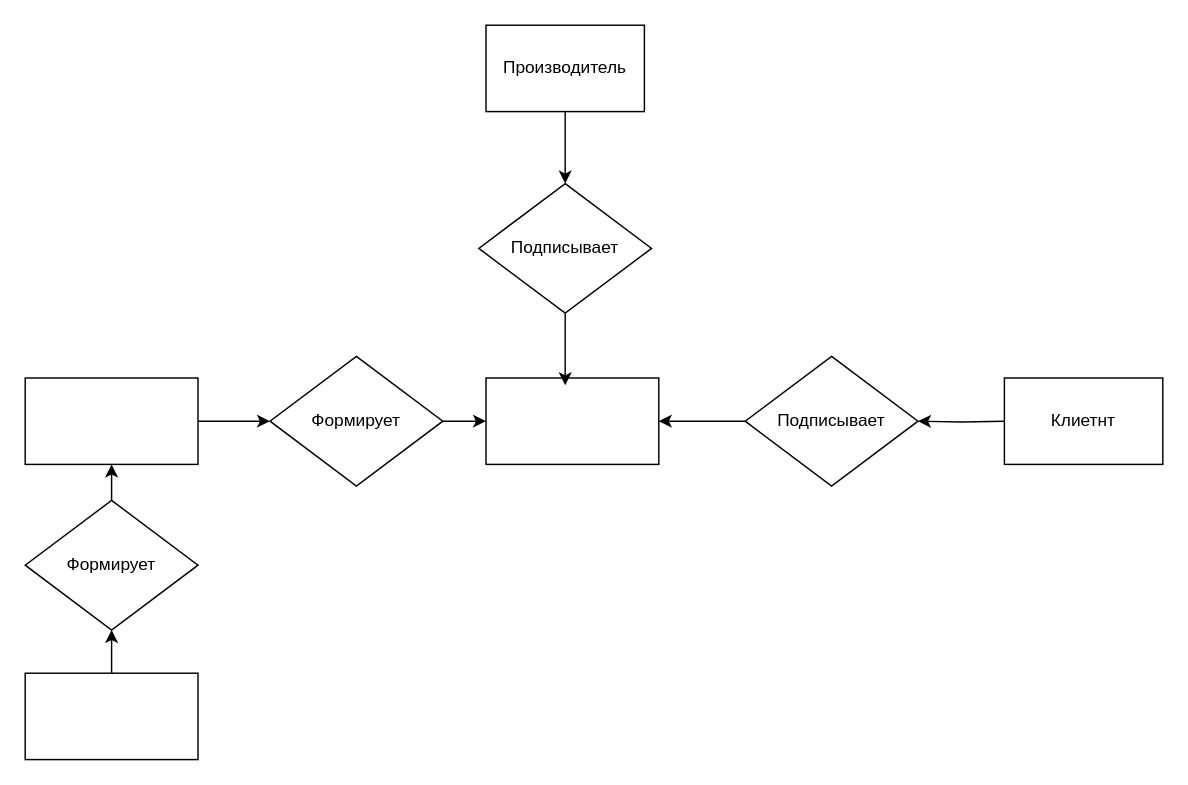
Image size: 1188x785. Some labels were removed from this diagram. The shapes that lost their labels are listed below. From the top down, each one's centre as x and y in pixels, then its label:
At (111,420): "Счет".
At (572,420): "Договор".
At (111,716): "Товар".
